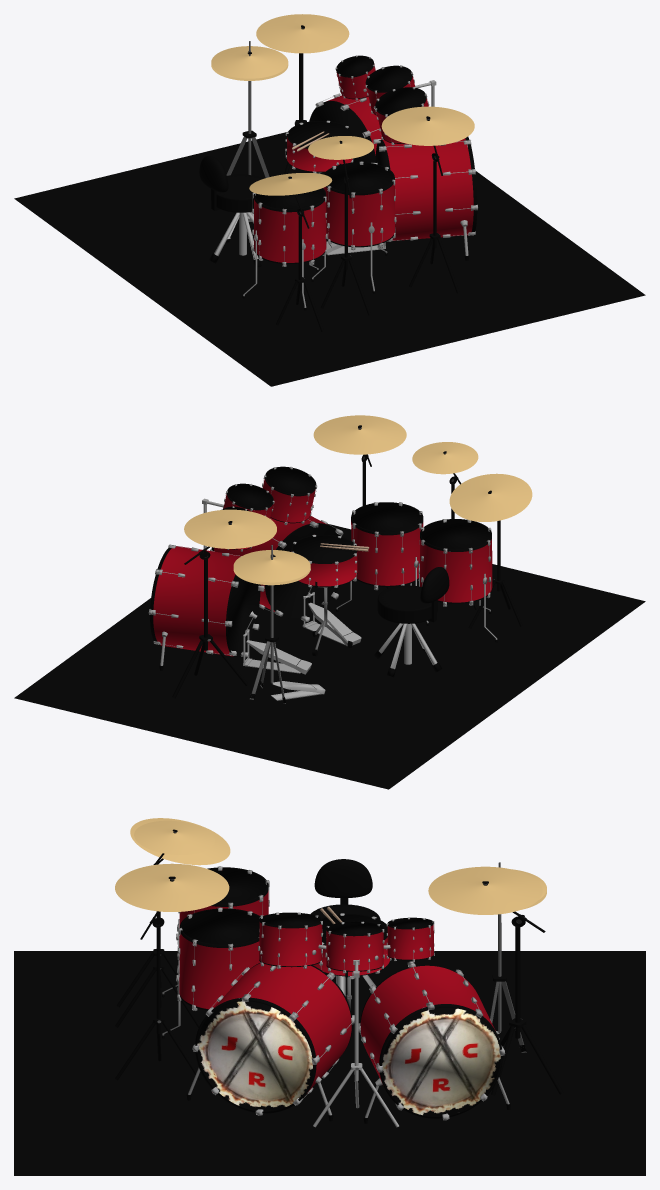
Rendered from bateria.glb.
3 views of the same model, one above another, from view 1: azimuth 30°, elevation 25°; view 2: azimuth 150°, elevation 25°; view 3: azimuth 270°, elevation 25° (orthographic). The views are drawn at different scales.
Visible parts, largest first — view 1: Plane, bumbo, surdo, surdo.002, chimbal, Circle.001, Circle, bumbo.001, caixa, Cylinder, Circle.003, surdo.001 (+4 smaller); view 2: Plane, bumbo.001, surdo, surdo.002, chimbal, bumbo, Circle.003, caixa, Circle, Circle.001, Cylinder, surdo.004 (+5 smaller); view 3: Plane, bumbo, bumbo.001, surdo, Circle.001, Circle, surdo.004, surdo.003, Cylinder, surdo.002, Circle.002, surdo.001 (+6 smaller).
Part boxes in pixels (x1,y1,x2,y2): Plane: (14,132,645,386); bumbo: (371,136,477,260); surdo: (311,161,396,293); surdo.002: (242,188,327,310); chimbal: (211,41,288,221); Circle.001: (256,14,349,53); Circle: (381,106,474,145); bumbo.001: (309,93,381,174); caixa: (285,120,353,173); Cylinder: (199,156,262,212); Circle.003: (249,173,332,195); surdo.001: (335,55,375,100); Plane: (14,524,645,789); bumbo.001: (148,544,264,670); surdo: (336,502,428,625); surdo.002: (418,519,497,642); chimbal: (233,545,325,703); bumbo: (210,516,343,621); Circle.003: (449,473,532,521); caixa: (291,534,357,655); Circle: (313,415,406,454); Circle.001: (184,509,276,548); Cylinder: (377,567,449,623); surdo.004: (262,466,317,524); Plane: (14,951,645,1175); bumbo: (186,962,354,1121); bumbo.001: (358,961,510,1123); surdo: (162,907,260,1038); Circle.001: (428,866,542,914); Circle: (115,863,229,911); surdo.004: (258,912,323,968); surdo.003: (325,921,384,973); Cylinder: (310,859,380,919); surdo.002: (162,866,269,997); Circle.002: (134,820,214,854); surdo.001: (386,917,434,962).
Size of the model in its own units: 2.36 by 1.01 by 2.8.
23 materials, 2 textured.
